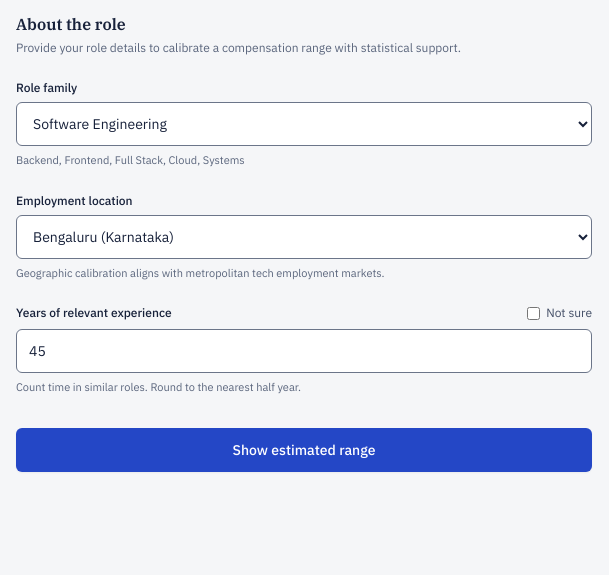
Test: ProfileForm › validates out-of-range experience and displays error summary
What coordinates should you click on to do the following:
click the button "Show estimated range"
I would click on:
 (304, 450)
Its box is [16,428,592,472].
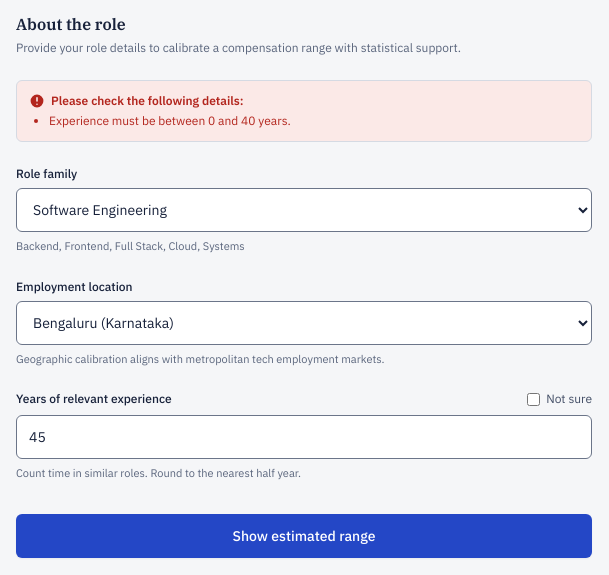
Now the message "Please check the following details: Experience must be between 0 and 40 years." is shown, box [16,80,592,142]
Now the list item "Experience must be between 0 and 40 years." is shown, box [49,113,291,128]
